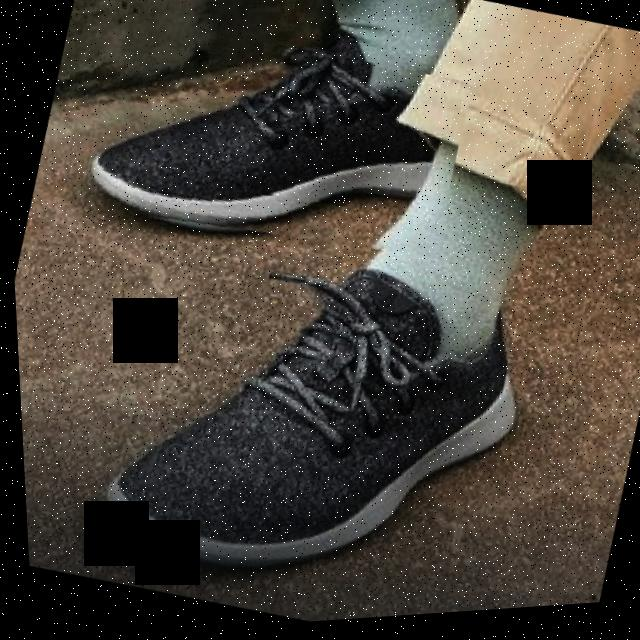shoe: (72, 211, 554, 637), (72, 0, 479, 300)
